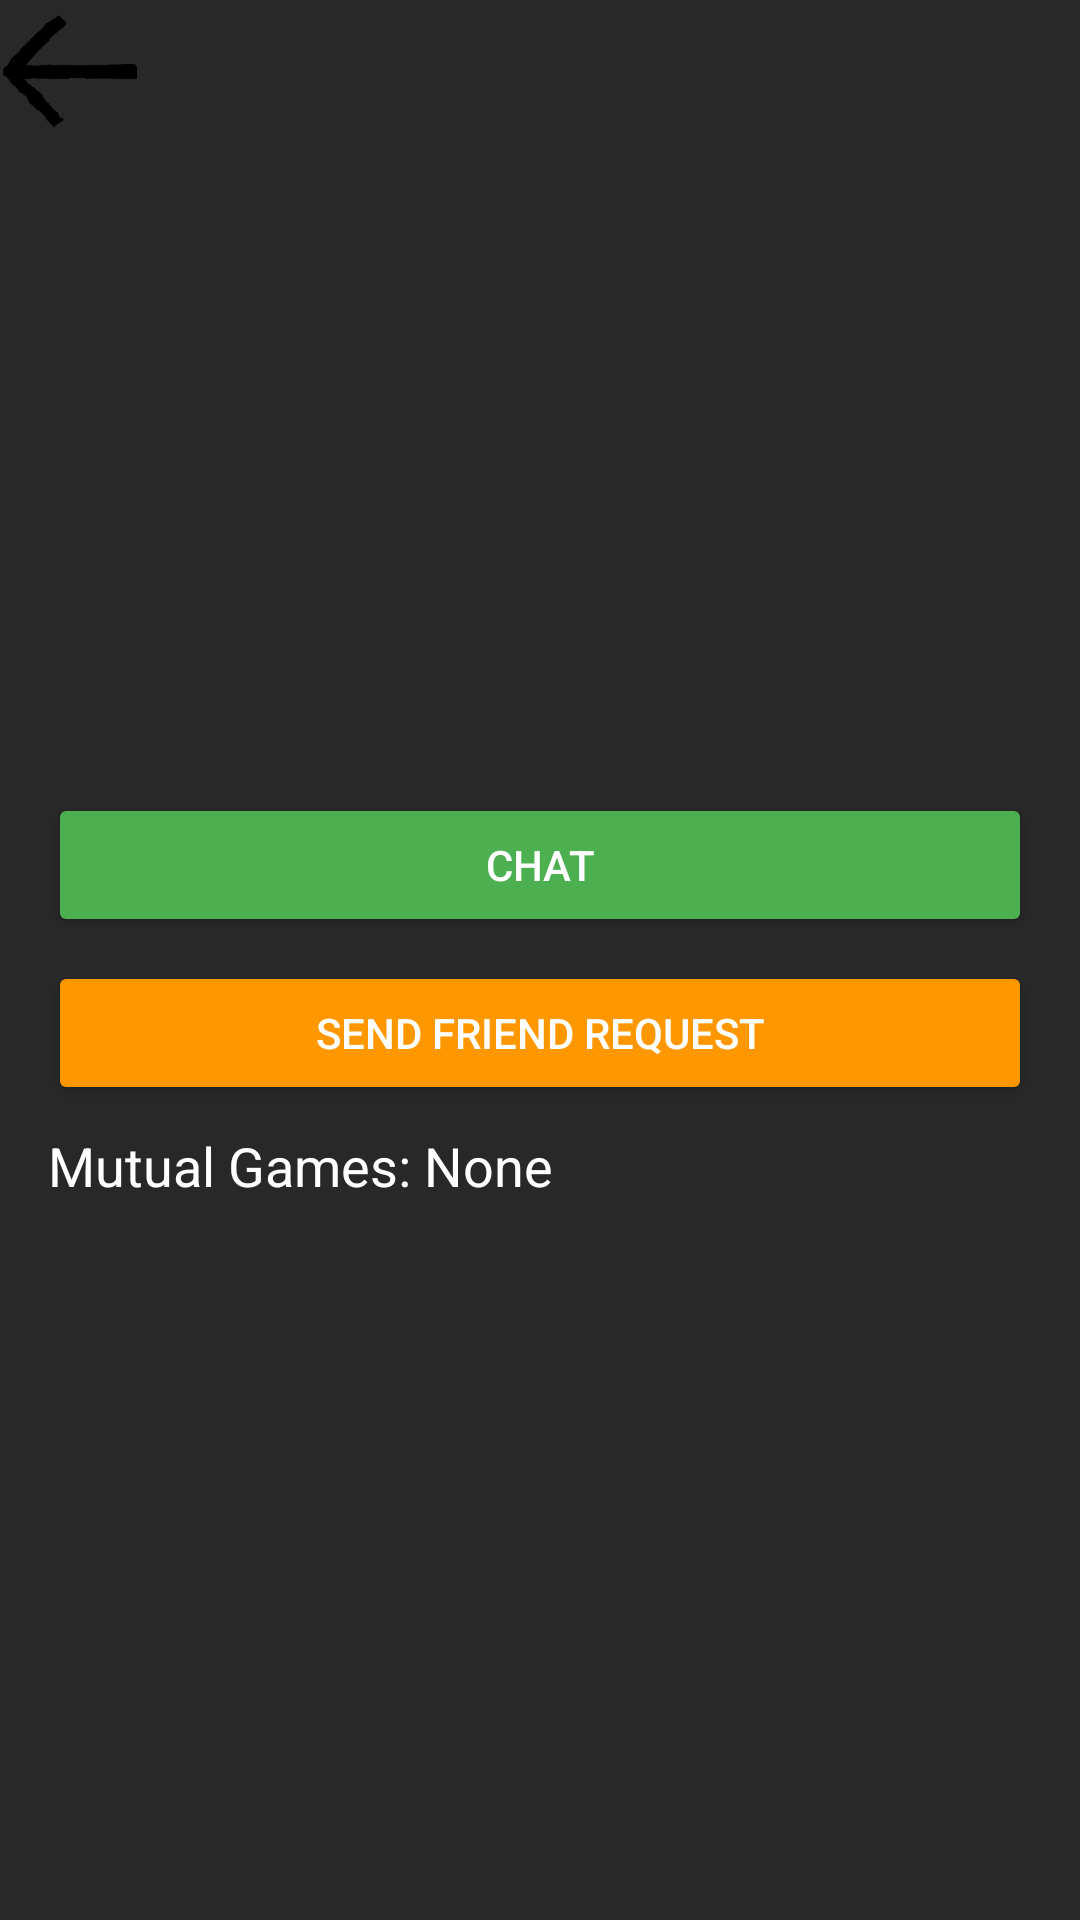

Icon bounding boxes for this 1080x1920 phone screenshot, format [x1=x1, y1=y1, x2=x2, y2=y2]:
Go Back: [x1=3, y1=16, x2=137, y2=127]
